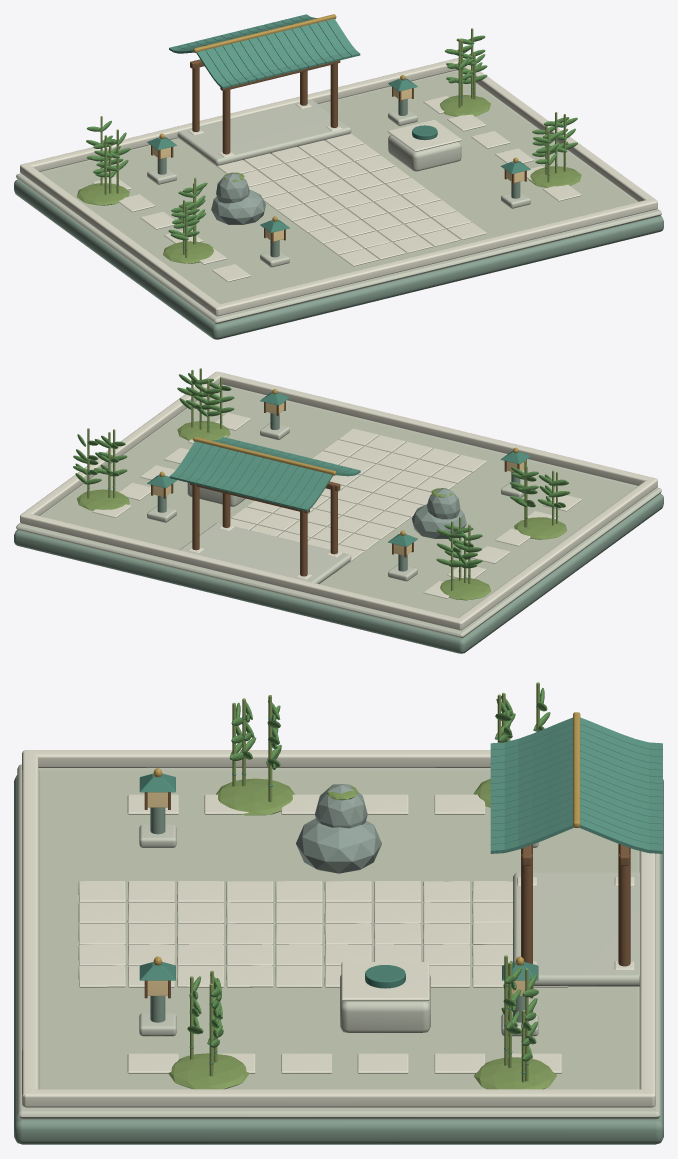
Rendered from movement_garden.glb.
3 views of the same model, one above another, from view 1: azimuth 30°, elevation 25°; view 2: azimuth 150°, elevation 25°; view 3: azimuth 270°, elevation 25° (orthographic). The views are drawn at different scales.
Visible parts, largest first — view 1: Sand garden surface, Floating courtyard plinth, Limestone upper terrace, Pavilion platform, Low end coping, Low end coping.001, Low side coping, Low side coping.001, Meditation stone, Scholar rock base, Meditation stone top, Moss planting bed (+9 smaller); view 2: Sand garden surface, Floating courtyard plinth, Limestone upper terrace, Low end coping.001, Low end coping, Pavilion platform, Low side coping, Low side coping.001, Scholar rock base, Moss planting bed.002, Moss planting bed, Moss planting bed.001 (+32 smaller); view 3: Sand garden surface, Floating courtyard plinth, Limestone upper terrace, Low side coping.001, Pavilion platform, Low side coping, Low end coping, Low end coping.001, Scholar rock base, Meditation stone, Meditation stone top, Moss planting bed.003 (+73 smaller).
Part boxes in pixels (x1,y1,x2,y2): Sand garden surface: [41, 71, 635, 303]; Floating courtyard plinth: [14, 179, 663, 339]; Limestone upper terrace: [16, 70, 661, 323]; Pavilion platform: [177, 99, 351, 165]; Low end coping: [216, 199, 657, 316]; Low end coping.001: [21, 58, 458, 171]; Low side coping: [20, 165, 220, 316]; Low side coping.001: [456, 58, 657, 202]; Meditation stone: [388, 135, 461, 171]; Scholar rock base: [211, 190, 265, 224]; Meditation stone top: [387, 119, 461, 151]; Moss planting bed: [77, 183, 129, 205]; Sand garden surface: [42, 388, 636, 617]; Floating courtyard plinth: [14, 493, 663, 653]; Limestone upper terrace: [16, 384, 661, 637]; Low end coping.001: [20, 513, 460, 630]; Low end coping: [215, 371, 657, 485]; Pavilion platform: [180, 522, 351, 583]; Low side coping: [457, 479, 657, 630]; Low side coping.001: [20, 371, 222, 516]; Scholar rock base: [412, 504, 466, 538]; Moss planting bed.002: [514, 517, 566, 539]; Moss planting bed: [440, 577, 490, 600]; Moss planting bed.001: [77, 489, 129, 510]; Sand garden surface: [39, 770, 638, 1089]; Floating courtyard plinth: [14, 775, 663, 1144]; Limestone upper terrace: [17, 764, 660, 1119]; Low side coping.001: [23, 1089, 654, 1107]; Pavilion platform: [513, 872, 639, 986]; Low side coping: [25, 750, 490, 767]; Low end coping: [22, 750, 38, 1106]; Low end coping.001: [639, 851, 655, 1106]; Scholar rock base: [296, 818, 381, 873]; Meditation stone: [340, 975, 430, 1032]; Meditation stone top: [341, 962, 429, 1001]; Moss planting bed.003: [168, 1053, 249, 1089].
Bounding box in the file's own units: 18 × 4.86 × 14.
